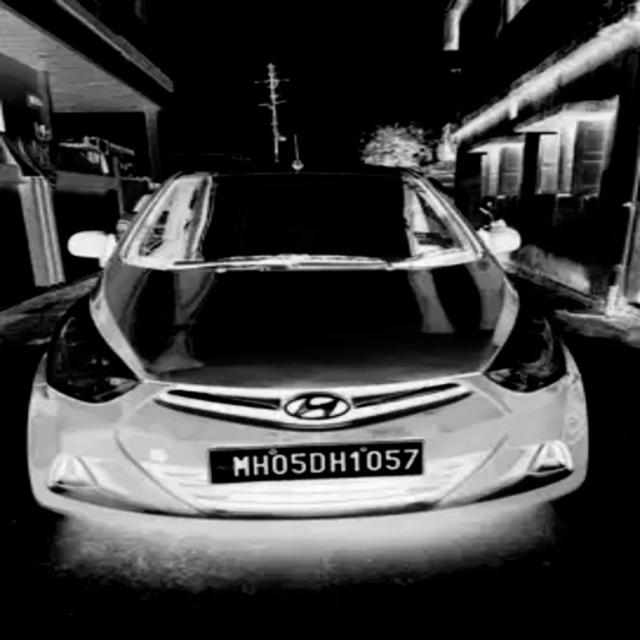0: (272, 451, 289, 475), (366, 450, 383, 472)
1: (348, 450, 363, 474)
5: (383, 448, 404, 473), (290, 451, 307, 475)
7: (401, 448, 420, 470)
D: (308, 450, 325, 476)
H: (252, 452, 272, 480), (329, 449, 347, 474)
IND: (211, 452, 229, 477)
Indian_registered: (210, 442, 422, 484)
M: (230, 454, 252, 480)
